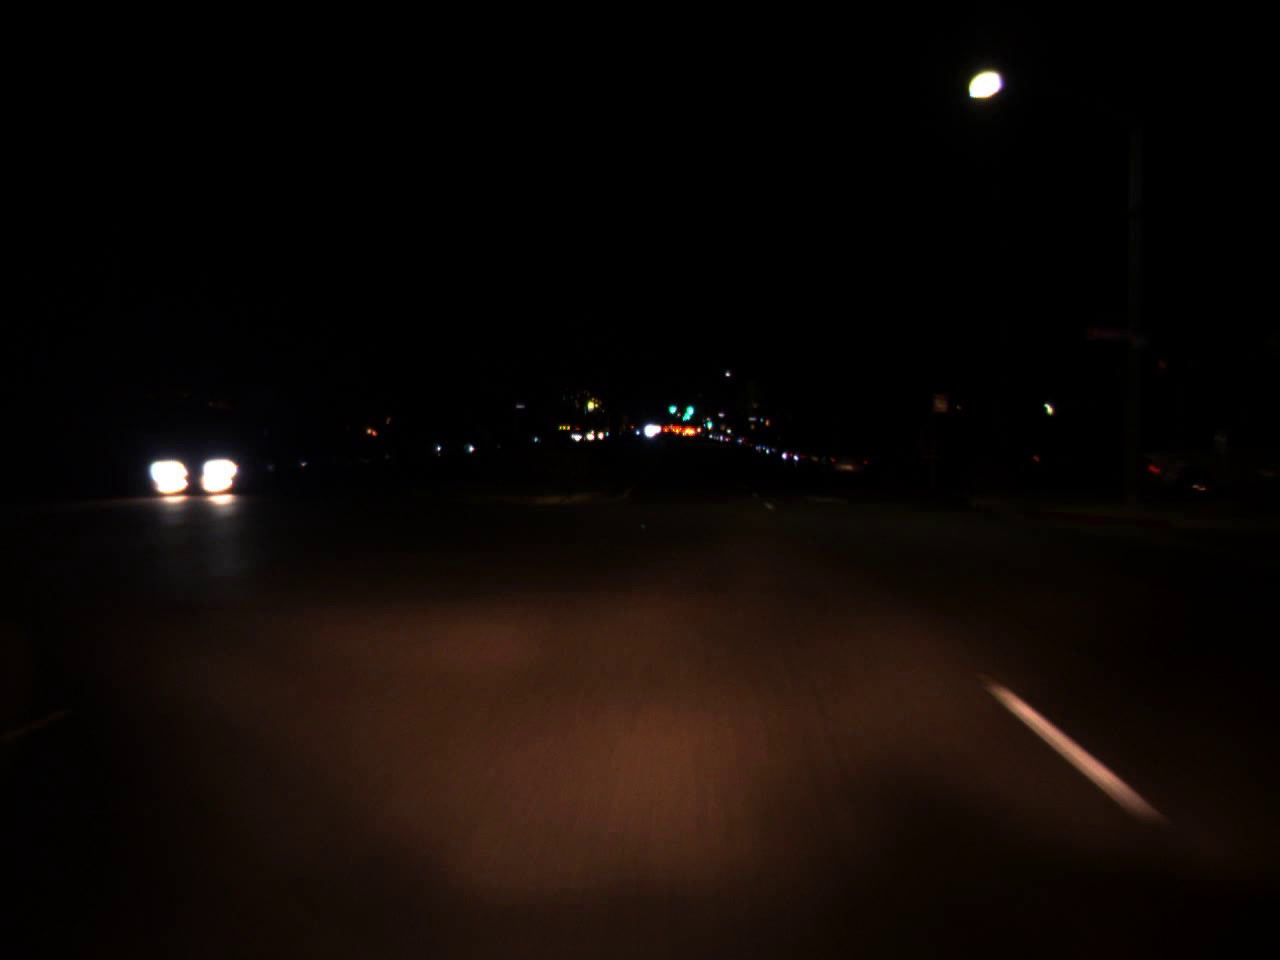go: (683, 395, 695, 416), (667, 397, 677, 415), (706, 416, 713, 428)
